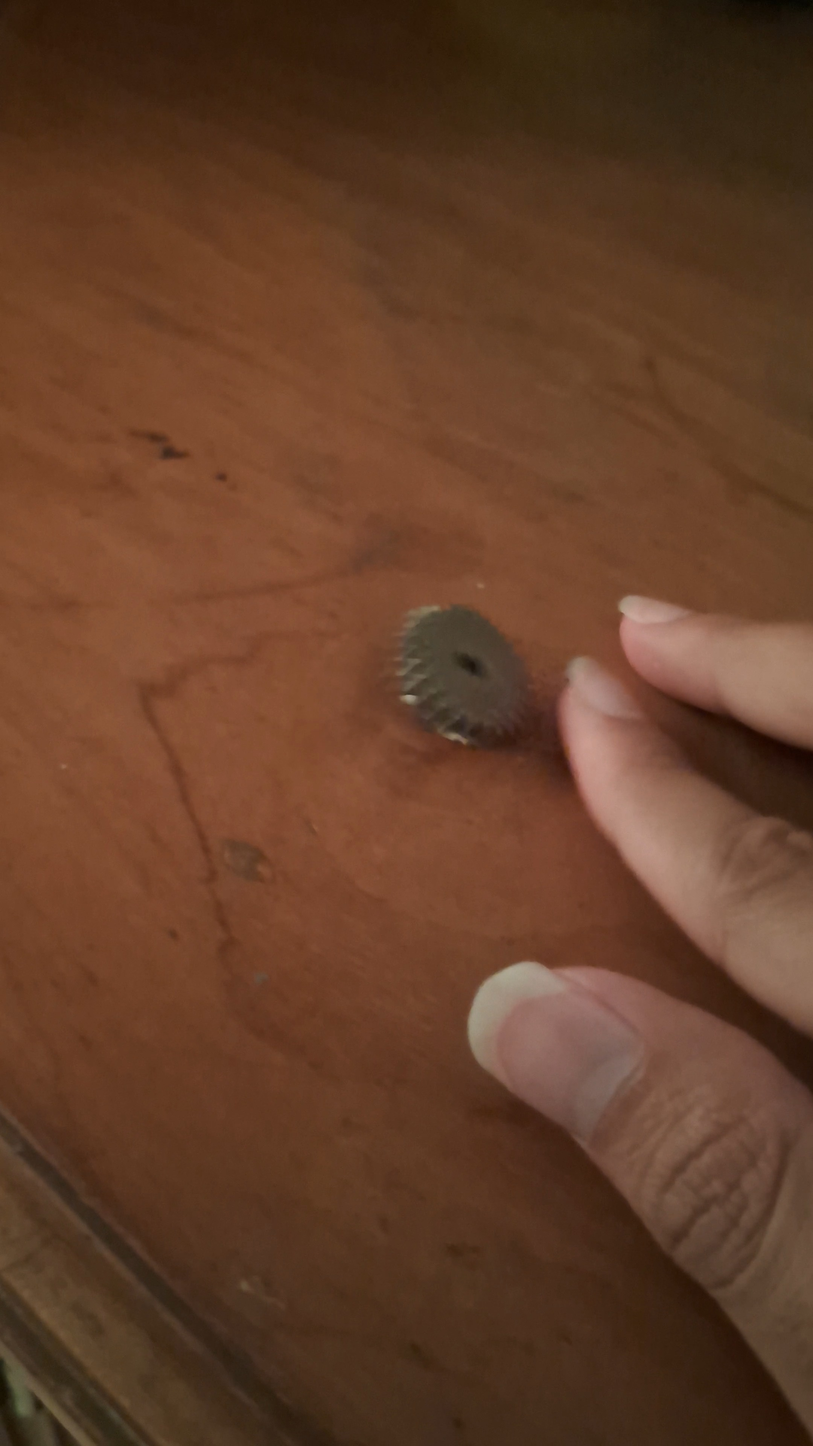spur gear: (399, 605, 529, 747)
